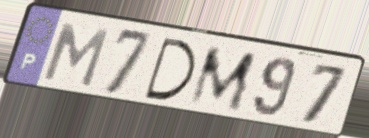7: (105, 25, 152, 99), (302, 62, 351, 127)
9: (250, 54, 298, 119)
D: (142, 35, 199, 103)
M: (39, 21, 112, 91), (186, 46, 261, 114)
